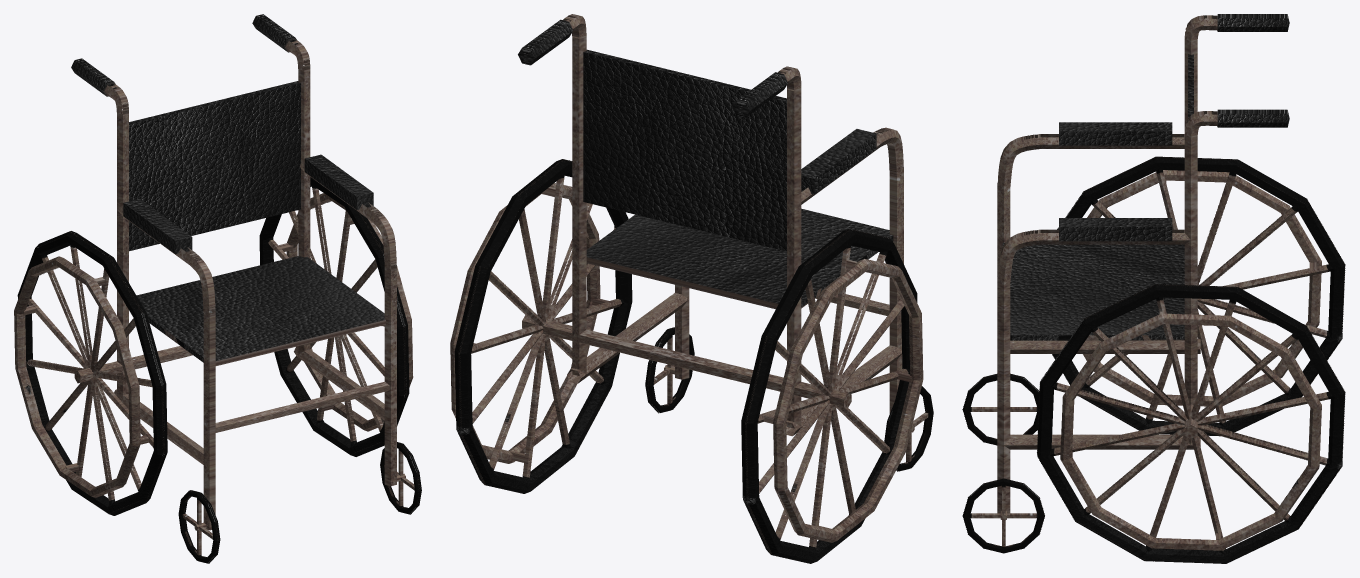
The model's file is wheelchair.obj.
3 renders of one model, left to right at view 1: azimuth 30°, elevation 25°; view 2: azimuth 150°, elevation 25°; view 3: azimuth 270°, elevation 25°, orthographic. The views are drawn at different scales.
Parts seen in each view (by area): view 1: polySurface54, polySurface63, polySurface78; view 2: polySurface54, polySurface63, polySurface78; view 3: polySurface63, polySurface54, polySurface78.
Part boxes in pixels (box(x1,y1,x2,y2)): polySurface54: box(71, 14, 396, 530); polySurface63: box(14, 177, 413, 515); polySurface78: box(178, 442, 421, 563); polySurface54: box(518, 14, 903, 436); polySurface63: box(450, 159, 923, 563); polySurface78: box(645, 327, 933, 471); polySurface63: box(1037, 156, 1345, 563); polySurface54: box(997, 14, 1289, 513); polySurface78: box(962, 373, 1044, 553).
Bounding box in the file's own units: 4.65 × 6.39 × 5.08.
1 material, 1 textured.
